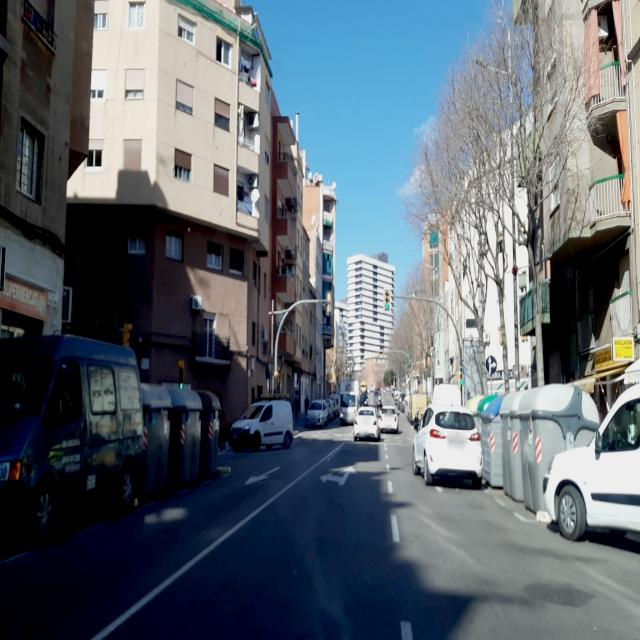car: (0, 332, 145, 546), (543, 359, 640, 568), (412, 406, 483, 488), (229, 399, 294, 452), (353, 407, 380, 441), (306, 399, 327, 428), (379, 405, 399, 434), (326, 397, 334, 421)
